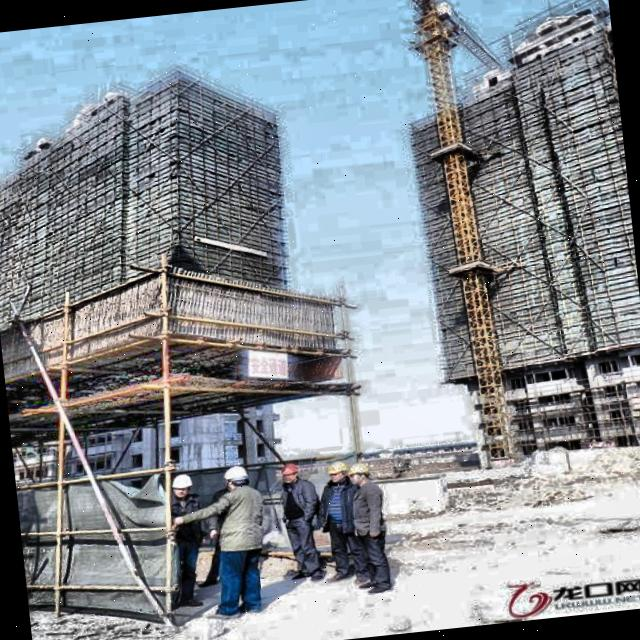helmet: (214, 462, 254, 494), (340, 459, 375, 493), (167, 468, 200, 502), (320, 453, 350, 488), (277, 456, 307, 484)
